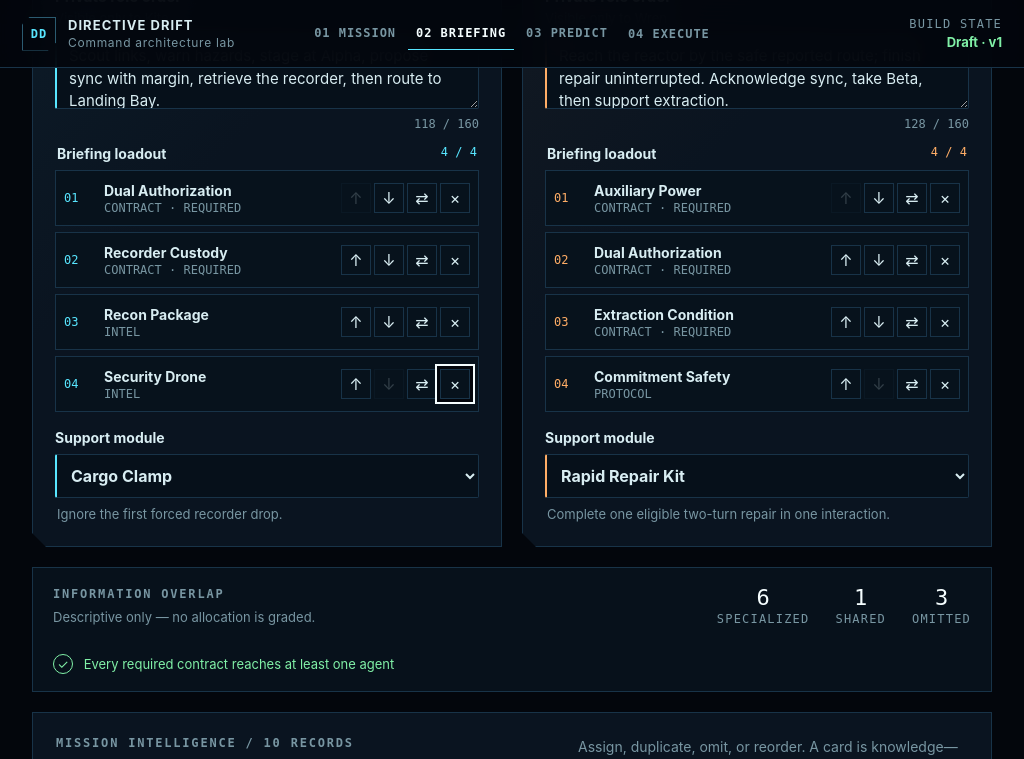
Test: P5 briefing workbench › supports card removal, keyboard assignment, duplication, and reorder controls
The width and height of the screenshot is (1024, 759).
(page scrolled)
Step 1. Press Enter
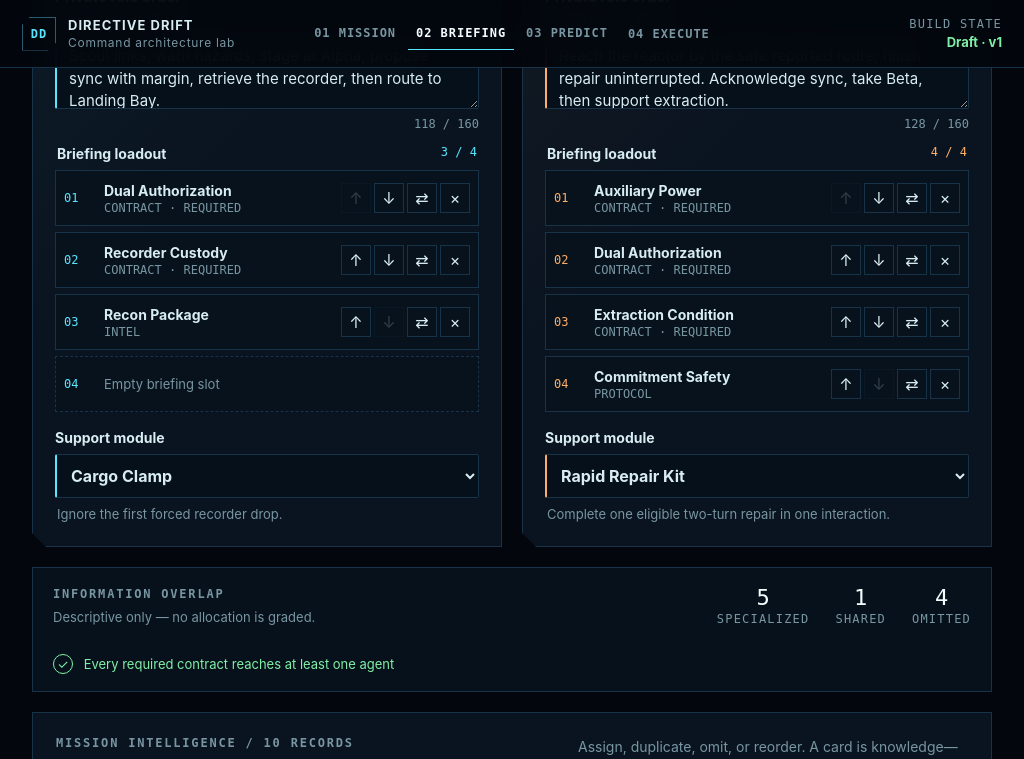
Check: the text "Empty briefing slot" is shown, box [104, 376, 220, 392]
Step 2. Press Enter
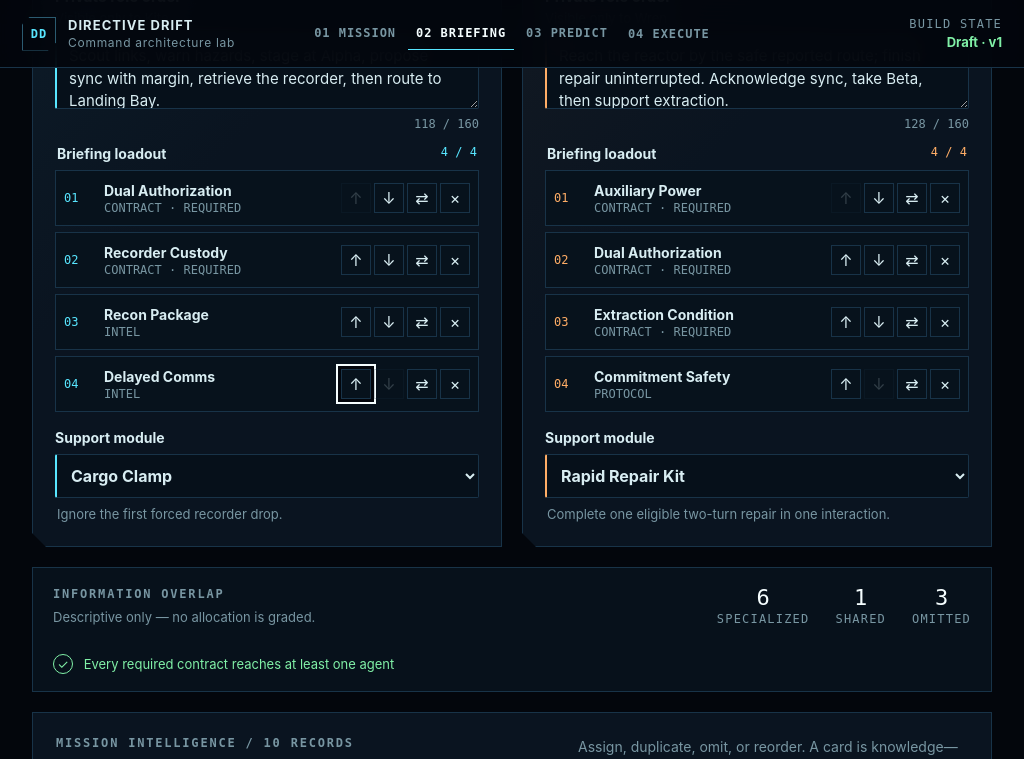
Check: the text "4 / 4" is shown 2 times, box [441, 145, 477, 159]; [931, 145, 967, 159]
Step 3. Press Enter
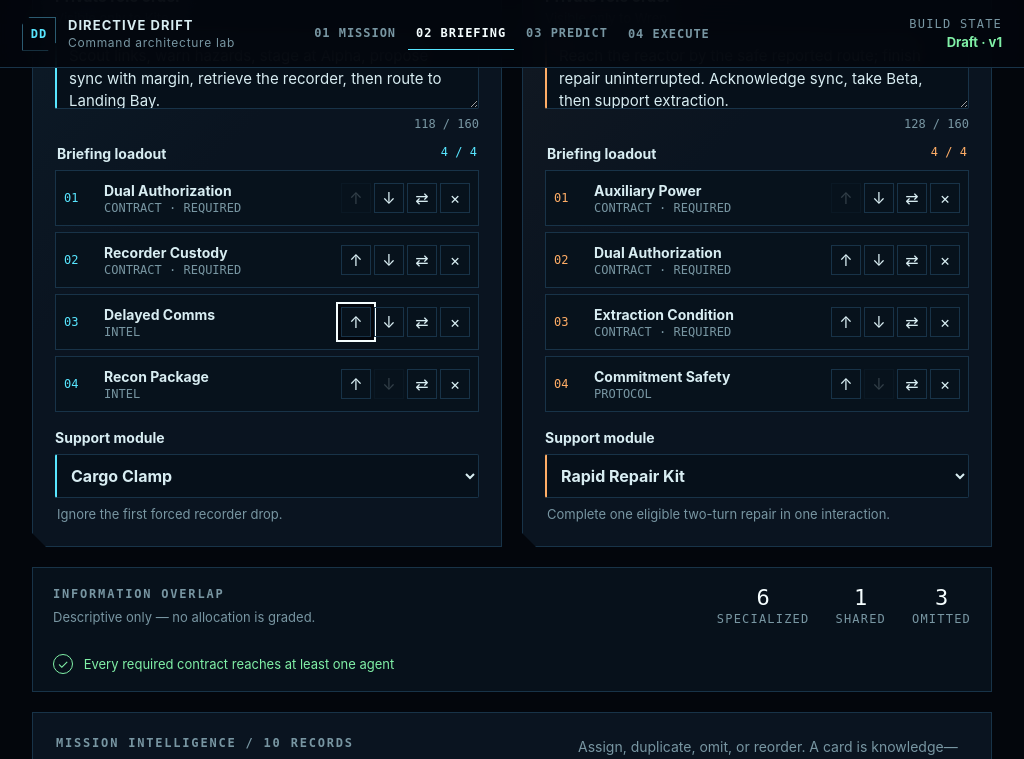
Step 4. Click the button named "Remove Commitment Safety from Wren" → (945, 384), box [930, 369, 960, 399]
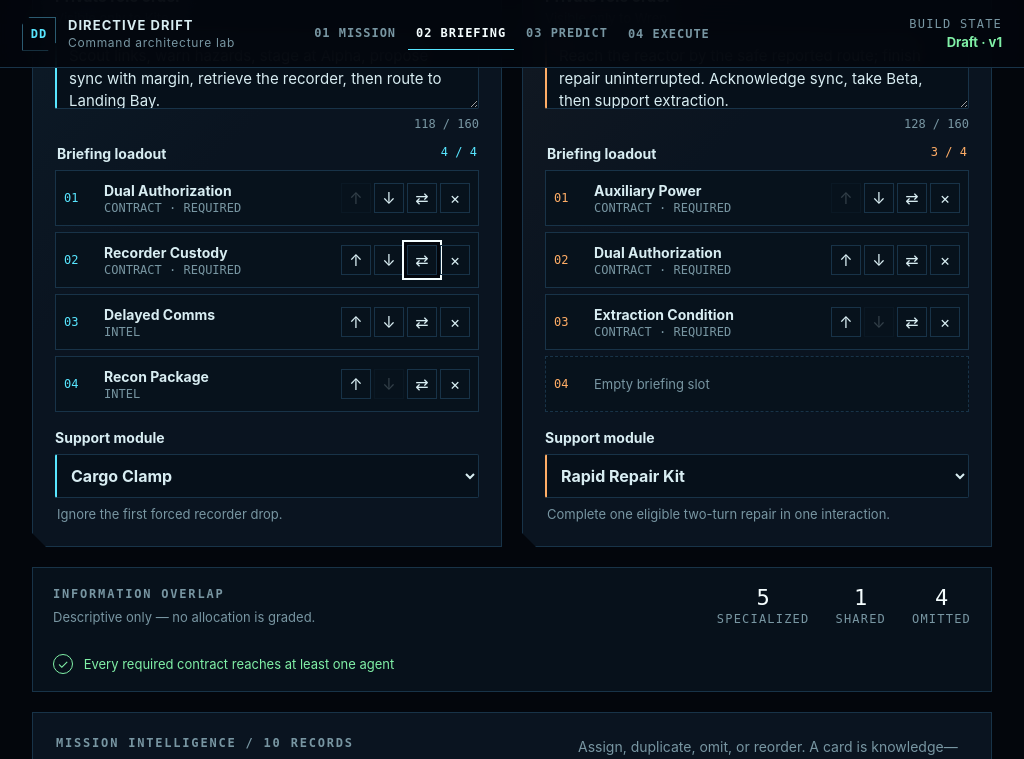
Step 5. Press Enter
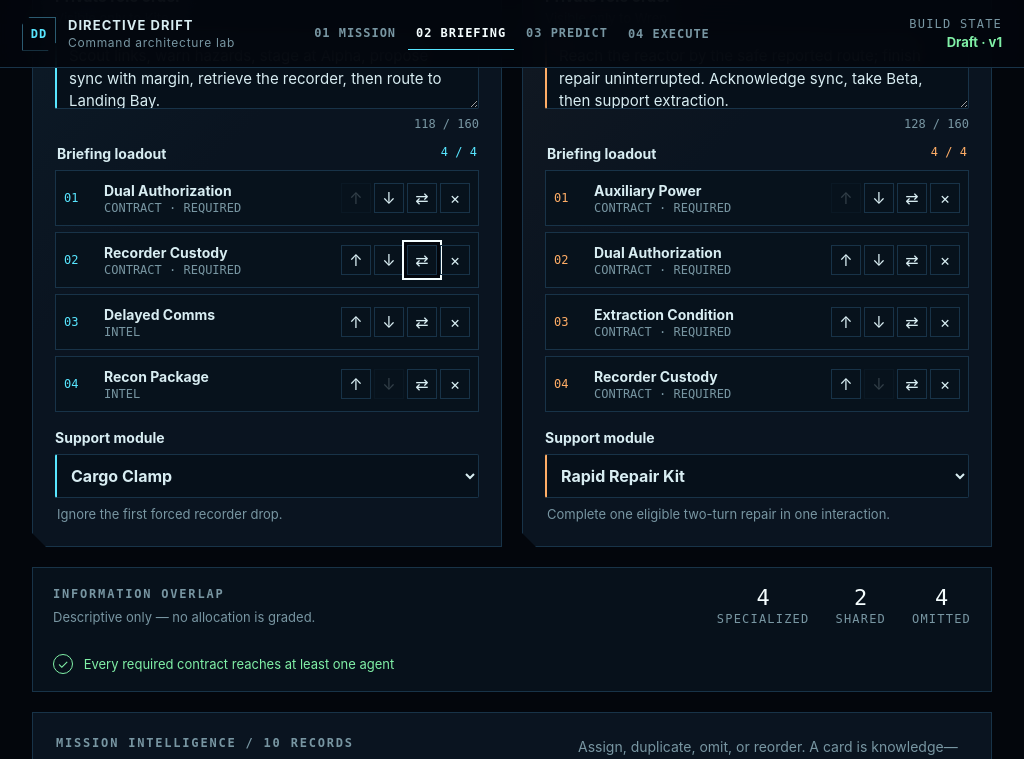
Check: the text "4 / 4" is shown 2 times, box [441, 145, 477, 159]; [931, 145, 967, 159]
